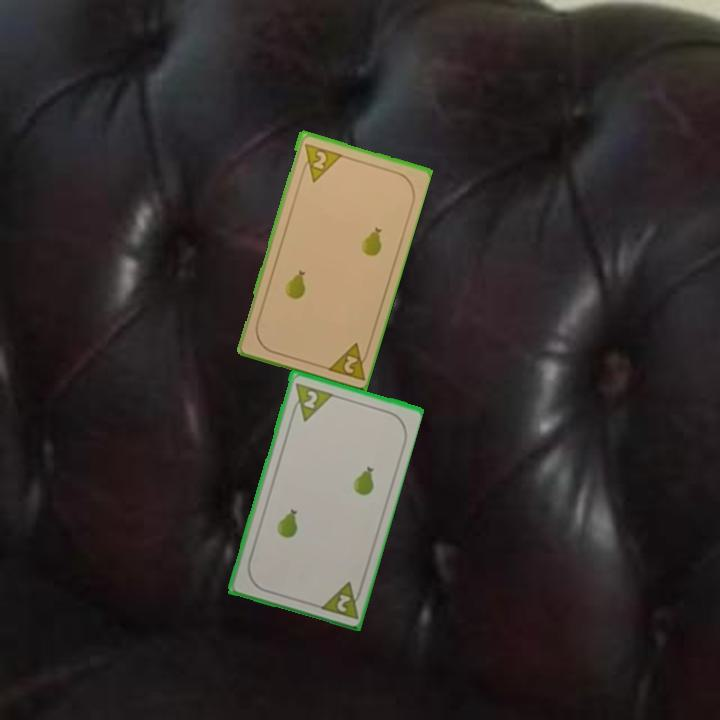2p: (322, 338, 373, 383), (315, 577, 366, 622), (287, 379, 334, 424), (298, 139, 343, 184)
